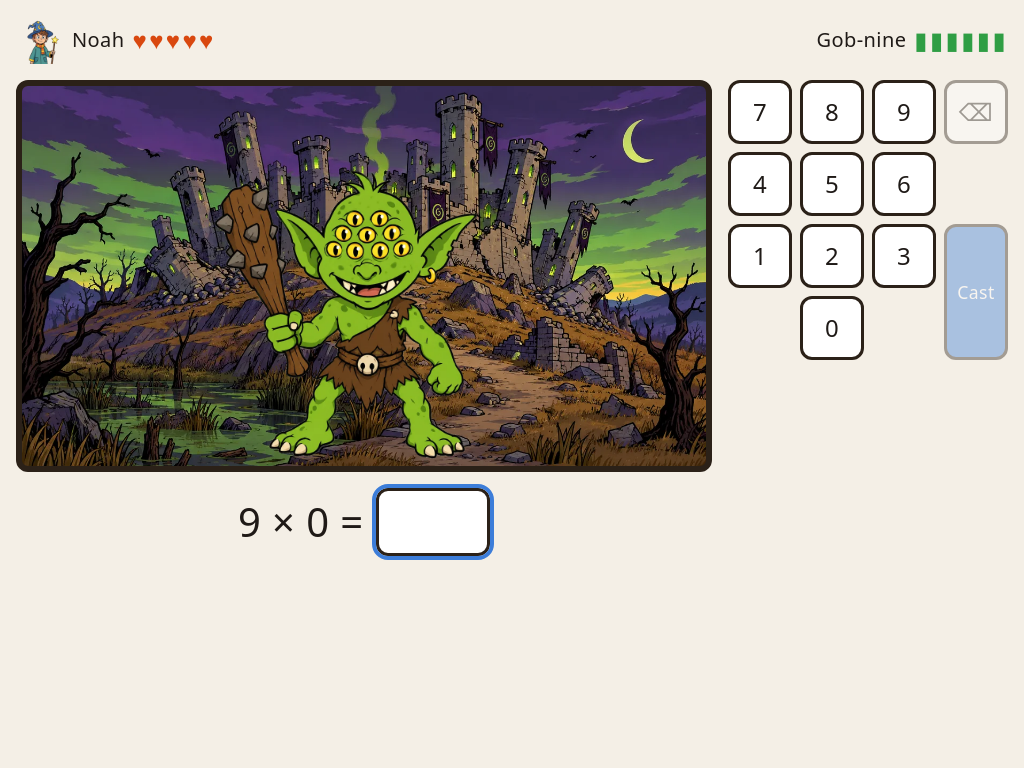
Test: EncounterScreen › a slow correct cast is a Hit for 1
This screenshot has width=1024, height=768.
Click the button "0". click: coordinates (832, 328)
box: [800,296,864,360]
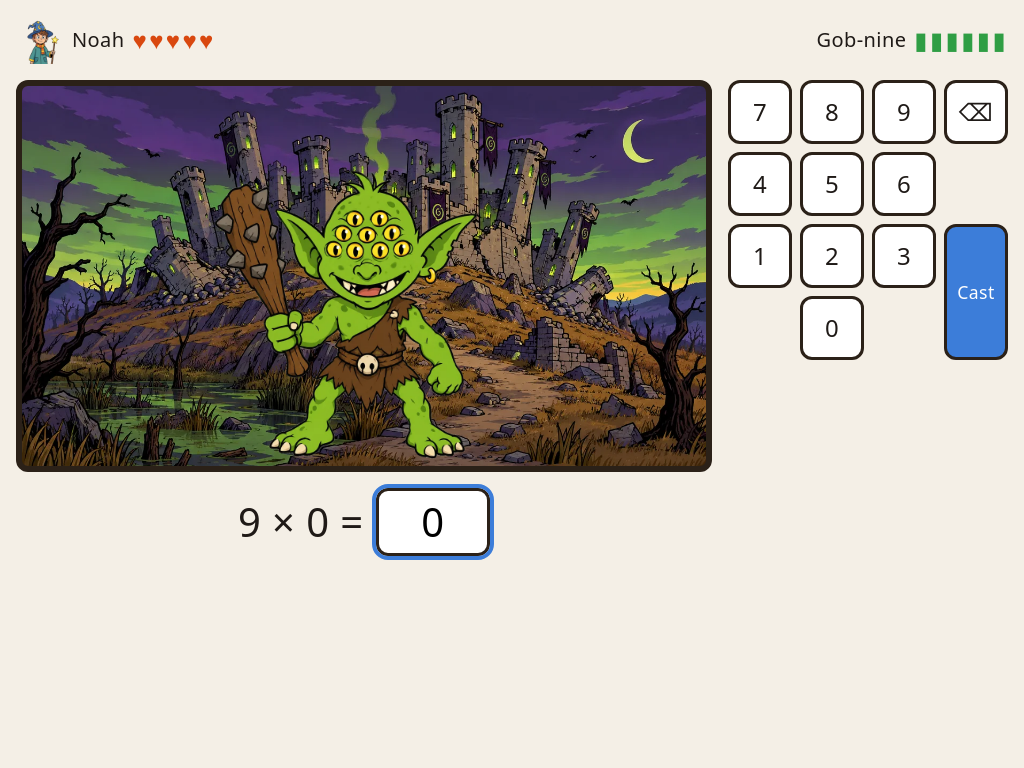
Click the button "Cast". click: coordinates (976, 292)
box: [944,224,1008,360]
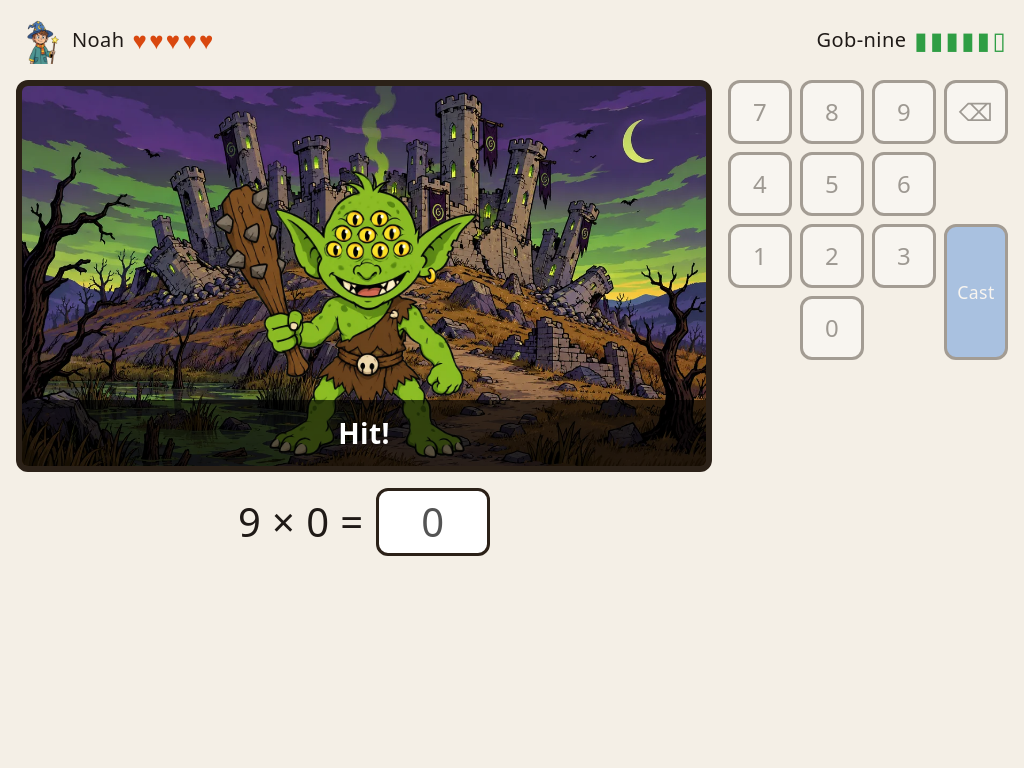
Expected: the message reads "Hit!", [338,414,390,452]
Expected: the picture named "5 of 6 monster hit points" is shown, [914,22,1008,58]
